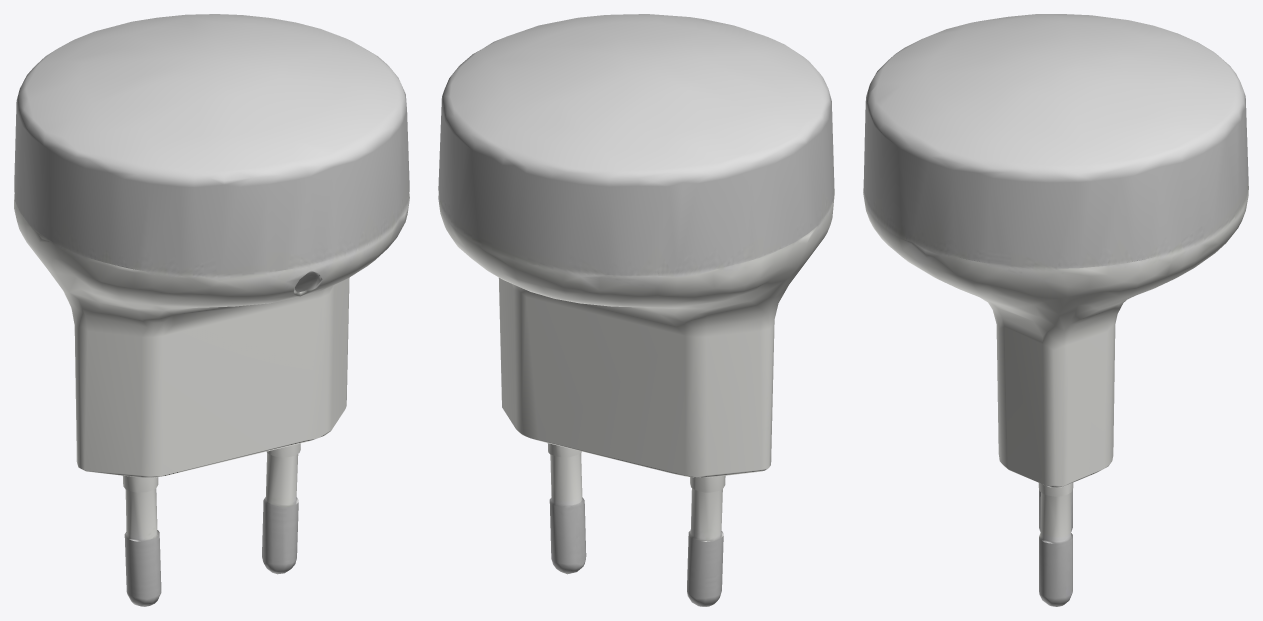
The model's file is morkradd_oswietlenie_nocne_led_z_czujnikiem_70349860.glb.
The picture shows the model from 3 angles, left to right: view 1: azimuth 30°, elevation 25°; view 2: azimuth 150°, elevation 25°; view 3: azimuth 270°, elevation 25°; orthographic projection. The views are drawn at different scales.
Visible parts, largest first — view 1: morkradd_oswietlenie_nocne_led_z_czujnikiem_70349860; view 2: morkradd_oswietlenie_nocne_led_z_czujnikiem_70349860; view 3: morkradd_oswietlenie_nocne_led_z_czujnikiem_70349860.
Part boxes in pixels (x1=…): morkradd_oswietlenie_nocne_led_z_czujnikiem_70349860: x1=14, y1=14, x2=409, y2=606; morkradd_oswietlenie_nocne_led_z_czujnikiem_70349860: x1=438, y1=14, x2=834, y2=606; morkradd_oswietlenie_nocne_led_z_czujnikiem_70349860: x1=863, y1=14, x2=1248, y2=606.
Size of the model in its own units: 0.045 by 0.0657 by 0.045.
Materials: 1 (1 with a texture image).
